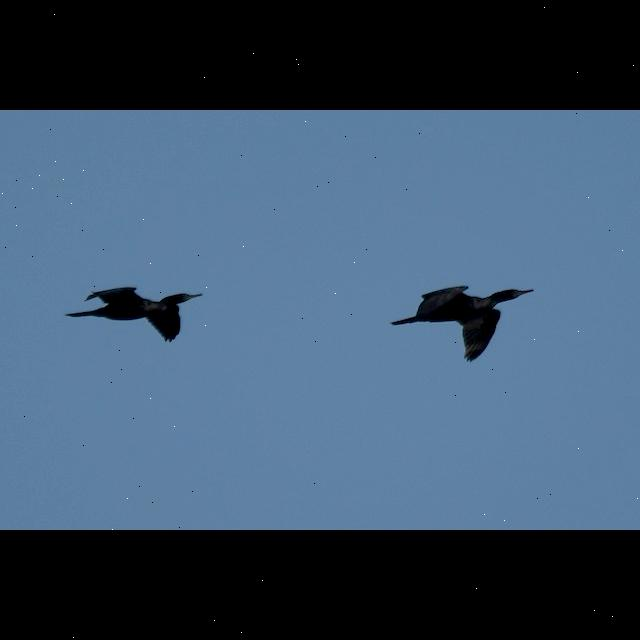cormorant: (378, 272, 538, 368), (57, 276, 211, 356)
